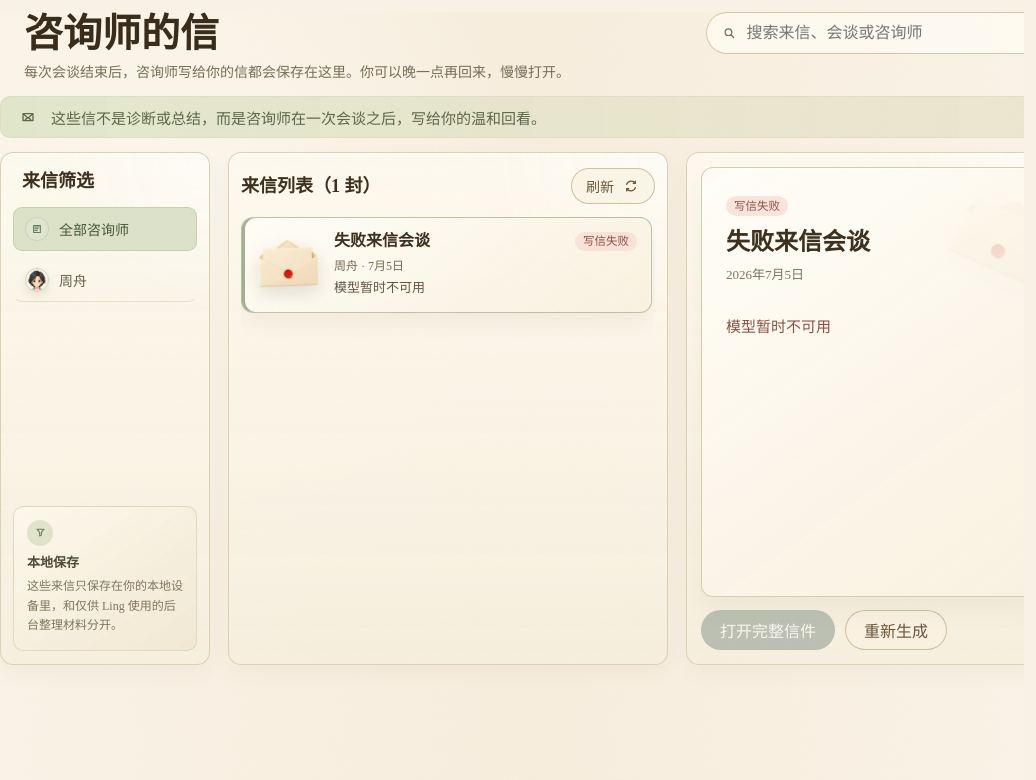
Scenario: SettingsMemoryPage letter archive › can request regeneration for a failed letter
The width and height of the screenshot is (1036, 780).
Click the button "重新生成" at (896, 630), box x1=845 y1=610 x2=947 y2=650
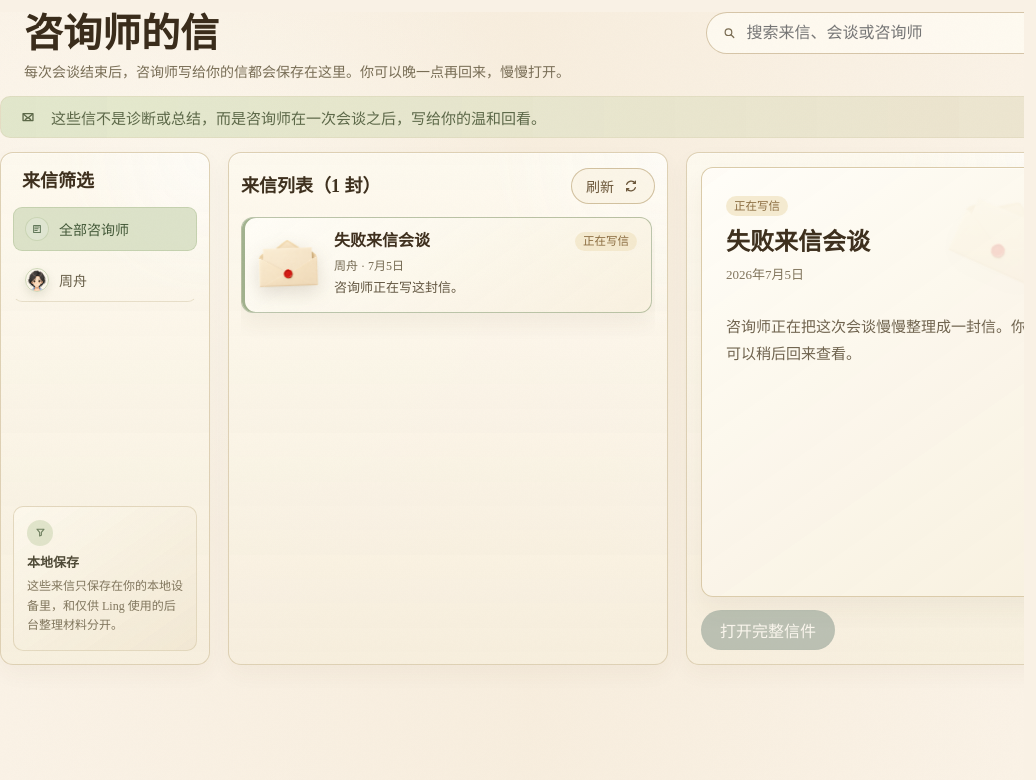
Check: the text "正在写信" below "来信列表（1 封）" is shown, box x1=583 y1=234 x2=629 y2=246
